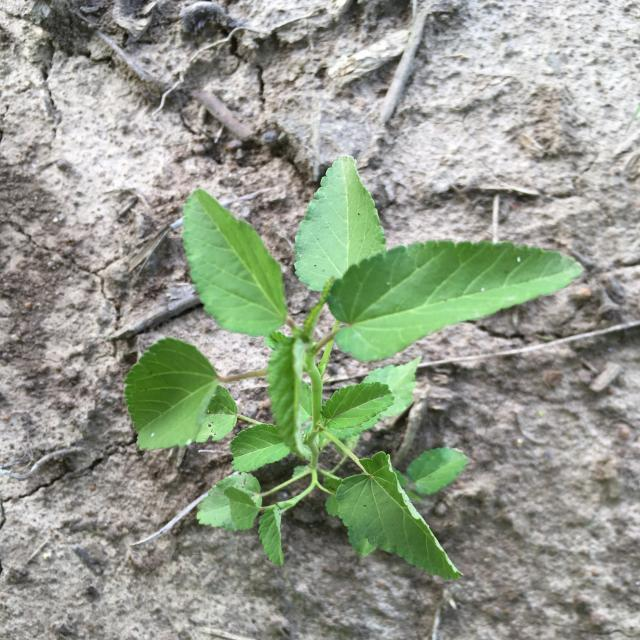PricklySida: (124, 154, 585, 581)
